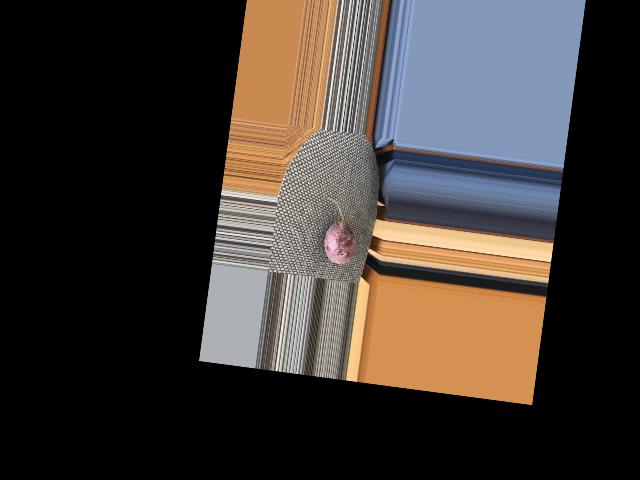beet: (318, 197, 361, 265)
